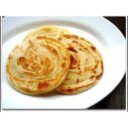parota: (8, 38, 69, 95), (53, 32, 105, 96)
